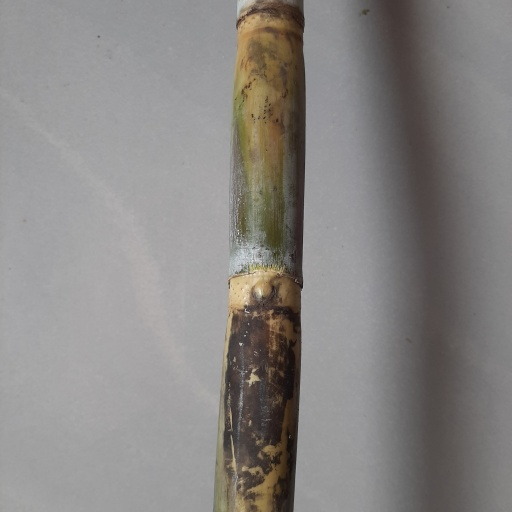Bud: (249, 281, 277, 308)
